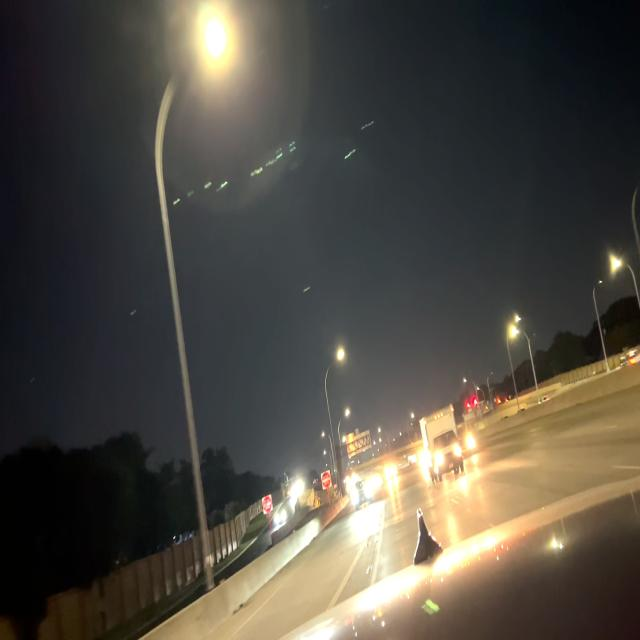back-of-sign: (345, 427, 372, 459)
